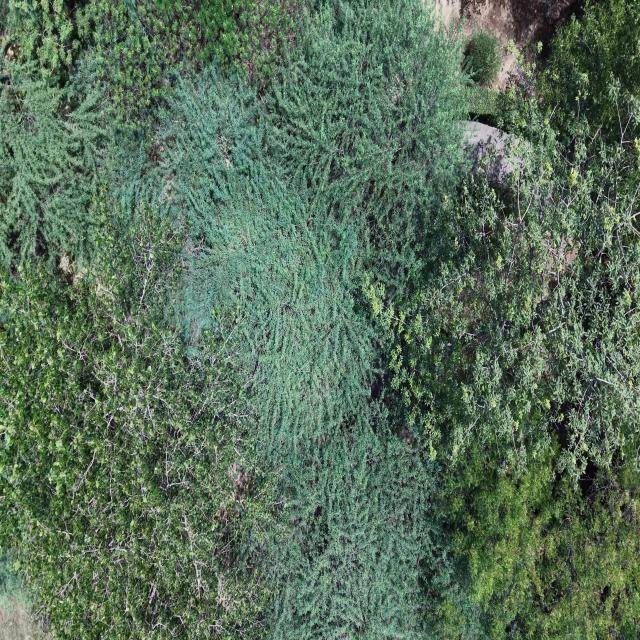DRY_AREA: (436, 0, 581, 87), (0, 597, 52, 639)
VEGETATION_TREE: (0, 0, 639, 639), (157, 3, 464, 637), (374, 3, 639, 638), (0, 211, 273, 637), (5, 0, 304, 122), (0, 64, 111, 269), (0, 554, 43, 639), (465, 30, 504, 120), (466, 30, 502, 86)
